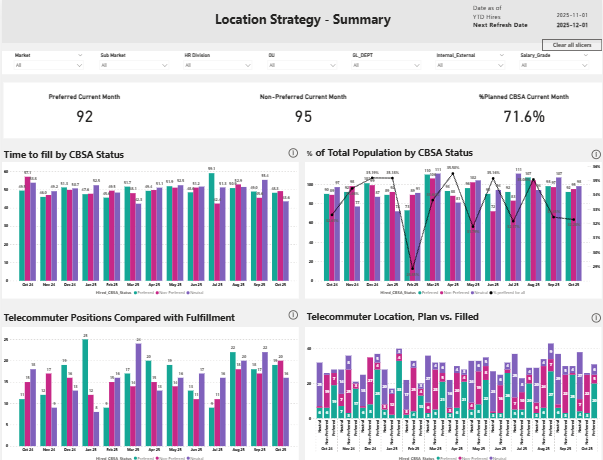

The page's visual inventory and layout, read from the dashboard file:
{"tool":"powerbi","page":{"name":"Summary","canvas":[2000,1770],"ordinal":0},"visuals":[{"type":"shape","box":[5.1,282.8,1995.7,186.3],"z":0},{"type":"shape","box":[0,0,2001.7,153.2],"z":1000},{"type":"shape","box":[0,178.6,2000.7,77.4],"z":2000},{"type":"card","title":"Preferred Current Month","fields":{"Values":["calculations.Prefered count fro latest month"]},"box":[78.2,321.2,389.5,113],"z":3000},{"type":"card","title":"Non-Preferred Current Month","fields":{"Values":["calculations.Prefered count fro latest month"]},"box":[808.9,321.2,389.4,113],"z":4000},{"type":"card","title":"%Planned CBSA Current Month","fields":{"Values":["calculations.plan achived"]},"box":[1545.3,321.2,389.5,113],"z":5000},{"type":"lineClusteredColumnComboChart","fields":{"Y":["CountNonNull(LOC_CBSA.Candidate_Name)"],"Series":["LOC_CBSA.Hired_CBSA_Status"],"Category":["LOC_CBSA.month year"],"Y2":["calculations.% preffered for all"]},"box":[1011.8,551,989,455.3],"z":6000},{"type":"clusteredColumnChart","fields":{"Y":["Avg(LOC_CBSA.Total_Time_to_Fill_Days)"],"Category":["LOC_CBSA.month year"],"Series":["LOC_CBSA.Hired_CBSA_Status"]},"box":[0,551,989,455],"z":7000},{"type":"slicer","fields":{"Values":["LOC_CBSA.Market"]},"box":[32.3,182.1,251.3,68.3],"z":9000},{"type":"slicer","fields":{"Values":["LOC_CBSA.Sub_Market"]},"box":[313.7,182.1,251,68.3],"z":10000},{"type":"slicer","fields":{"Values":["LOC_CBSA.OU"]},"box":[873.1,182.2,251.3,68.3],"z":11000},{"type":"slicer","fields":{"Values":["LOC_CBSA.HR_Division"]},"box":[594.8,182.3,248.2,68.3],"z":12000},{"type":"slicer","fields":{"Values":["LOC_CBSA.GL_DEPT"]},"box":[1154.5,182.4,251.3,68.3],"z":13000},{"type":"slicer","fields":{"Values":["LOC_CBSA.Internal_External"]},"box":[1435.8,182.5,251,68],"z":14000},{"type":"slicer","fields":{"Values":["LOC_CBSA.Salary_Grade"]},"box":[1716.9,182.3,251,68],"z":15000},{"type":"actionButton","box":[1798.2,138.1,200.9,40.2],"z":16000},{"type":"clusteredColumnChart","fields":{"Category":["LOC_CBSA.month year"],"Y":["Sum(LOC_CBSA.telecom num)"],"Series":["LOC_CBSA.Hired_CBSA_Status"]},"box":[0,1099.6,989.7,456],"z":17000},{"type":"textbox","box":[1011.1,490.8,989.6,60.2],"z":18000},{"type":"textbox","box":[0,493,989.6,60.2],"z":19000},{"type":"textbox","box":[0,1040.7,989.7,58.9],"z":20000},{"type":"textbox","box":[704.3,41.4,601.6,70.2],"z":21000},{"type":"columnChart","fields":{"Category":["LOC_CBSA.month year","LOC_CBSA.Planned_CBSA_Status"],"Series":["LOC_CBSA.Hired_CBSA_Status"],"Y":["CountNonNull(LOC_CBSA.Candidate_Name)"]},"box":[1012,1100,988,456],"z":22000},{"type":"textbox","box":[1008.7,1036.4,990.3,61.5],"z":23000},{"type":"textbox","box":[1565.4,15.4,209.1,123],"z":24000},{"type":"card","fields":{"Values":["calculations.max date"]},"box":[1832.9,46.1,132.2,30.8],"z":25000},{"type":"card","fields":{"Values":["calculations.next month"]},"box":[1832.9,76.9,132.2,33.8],"z":26000},{"type":"shape","box":[0,1615.5,1999.2,154],"z":27000},{"type":"textbox","box":[31.8,1642.4,777.2,102.6],"z":28000},{"type":"actionButton","box":[948.3,493.7,41.5,48.9],"z":29000},{"type":"actionButton","box":[1957.6,1043.6,41.5,48.9],"z":30000},{"type":"actionButton","box":[1957.6,501,41.5,48.9],"z":31000},{"type":"actionButton","box":[948.3,1036.3,41.5,48.9],"z":32000}]}

Visuals, with their boxes on the page's 2000x1770 design canvas (x1, y1, x2, y2). These are canvas units, not pixel positions in the 603x460 screenshot, which may show the page scaled, cropped or inside an application window:
shape: x1=5 y1=283 x2=2001 y2=469
shape: x1=0 y1=0 x2=2002 y2=153
shape: x1=0 y1=179 x2=2001 y2=256
"Preferred Current Month" card: x1=78 y1=321 x2=468 y2=434
"Non-Preferred Current Month" card: x1=809 y1=321 x2=1198 y2=434
"%Planned CBSA Current Month" card: x1=1545 y1=321 x2=1935 y2=434
lineClusteredColumnComboChart - CountNonNull(LOC_CBSA.Candidate_Name) x LOC_CBSA.Hired_CBSA_Status: x1=1012 y1=551 x2=2001 y2=1006
clusteredColumnChart - Avg(LOC_CBSA.Total_Time_to_Fill_Days) x LOC_CBSA.month year: x1=0 y1=551 x2=989 y2=1006
slicer - LOC_CBSA.Market: x1=32 y1=182 x2=284 y2=250
slicer - LOC_CBSA.Sub_Market: x1=314 y1=182 x2=565 y2=250
slicer - LOC_CBSA.OU: x1=873 y1=182 x2=1124 y2=250
slicer - LOC_CBSA.HR_Division: x1=595 y1=182 x2=843 y2=251
slicer - LOC_CBSA.GL_DEPT: x1=1154 y1=182 x2=1406 y2=251
slicer - LOC_CBSA.Internal_External: x1=1436 y1=182 x2=1687 y2=250
slicer - LOC_CBSA.Salary_Grade: x1=1717 y1=182 x2=1968 y2=250
actionButton: x1=1798 y1=138 x2=1999 y2=178
clusteredColumnChart - LOC_CBSA.month year x Sum(LOC_CBSA.telecom num): x1=0 y1=1100 x2=990 y2=1556
textbox: x1=1011 y1=491 x2=2001 y2=551
textbox: x1=0 y1=493 x2=990 y2=553
textbox: x1=0 y1=1041 x2=990 y2=1100
textbox: x1=704 y1=41 x2=1306 y2=112
columnChart - LOC_CBSA.month year x LOC_CBSA.Planned_CBSA_Status: x1=1012 y1=1100 x2=2000 y2=1556
textbox: x1=1009 y1=1036 x2=1999 y2=1098
textbox: x1=1565 y1=15 x2=1774 y2=138
card - calculations.max date: x1=1833 y1=46 x2=1965 y2=77
card - calculations.next month: x1=1833 y1=77 x2=1965 y2=111
shape: x1=0 y1=1616 x2=1999 y2=1770
textbox: x1=32 y1=1642 x2=809 y2=1745
actionButton: x1=948 y1=494 x2=990 y2=543
actionButton: x1=1958 y1=1044 x2=1999 y2=1092
actionButton: x1=1958 y1=501 x2=1999 y2=550
actionButton: x1=948 y1=1036 x2=990 y2=1085
